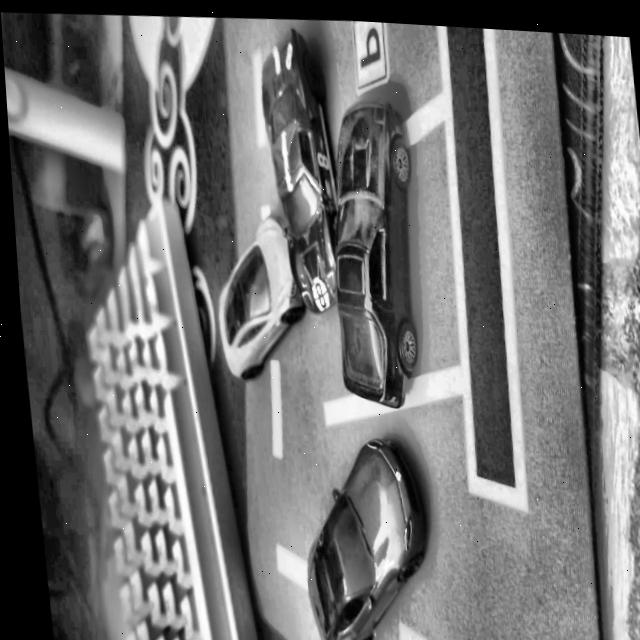car: (312, 88, 431, 406), (285, 426, 431, 640), (252, 19, 346, 312), (202, 205, 307, 380)
